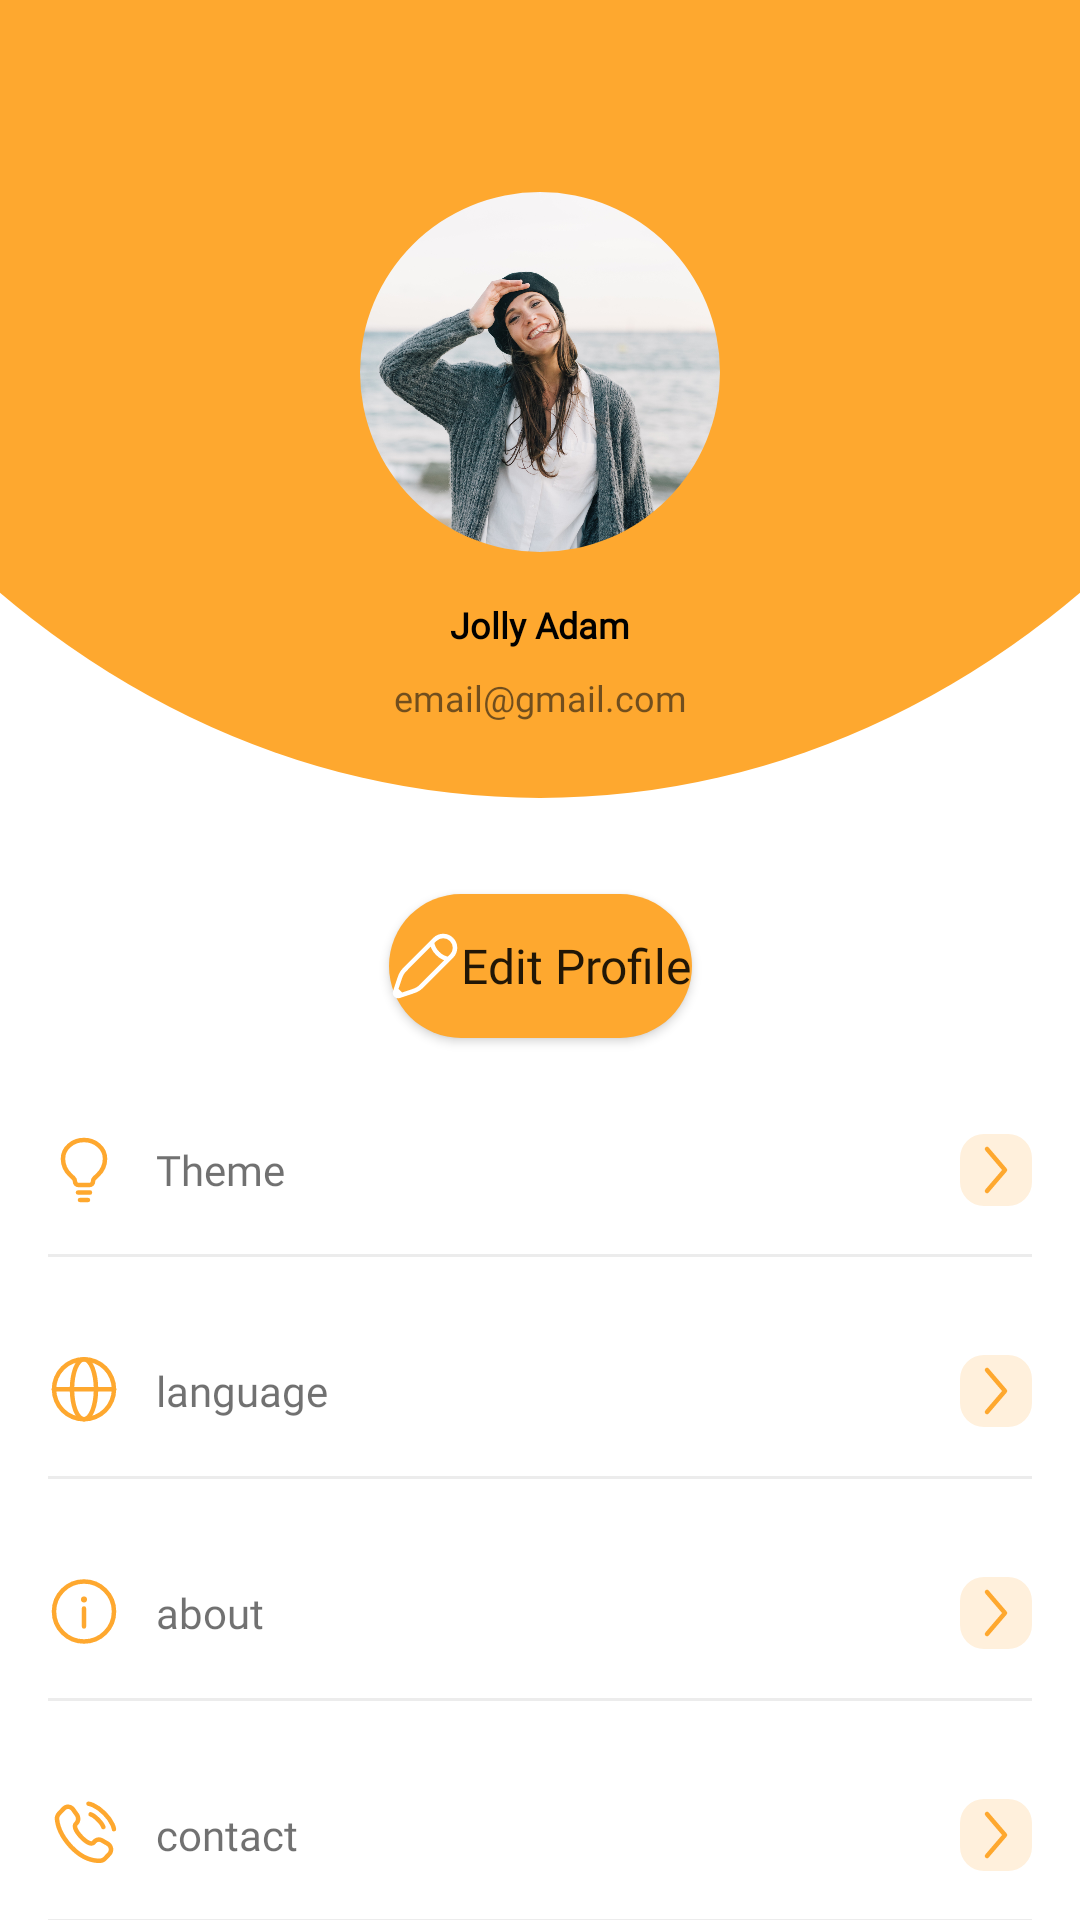

Icon bounding boxes for this 1080×1920 phone screenshot, format {"x1": x1, "y1": y1, "x2": x2, "y2": y2}:
arrow right: {"x1": 960, "y1": 1134, "x2": 1032, "y2": 1206}, {"x1": 960, "y1": 1355, "x2": 1032, "y2": 1427}, {"x1": 960, "y1": 1577, "x2": 1032, "y2": 1649}, {"x1": 960, "y1": 1799, "x2": 1032, "y2": 1871}
